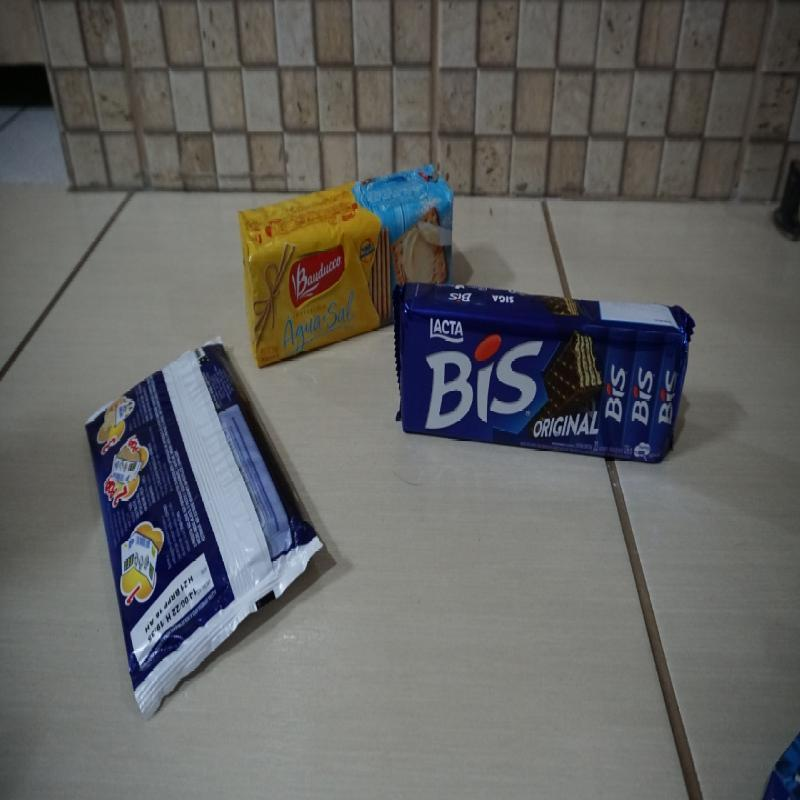Cracker: (227, 159, 472, 278)
Popcorn: (78, 330, 321, 732)
